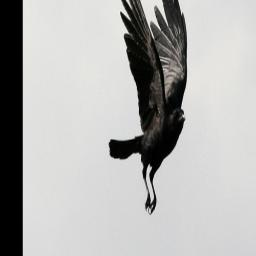Crow: (108, 0, 189, 221)
